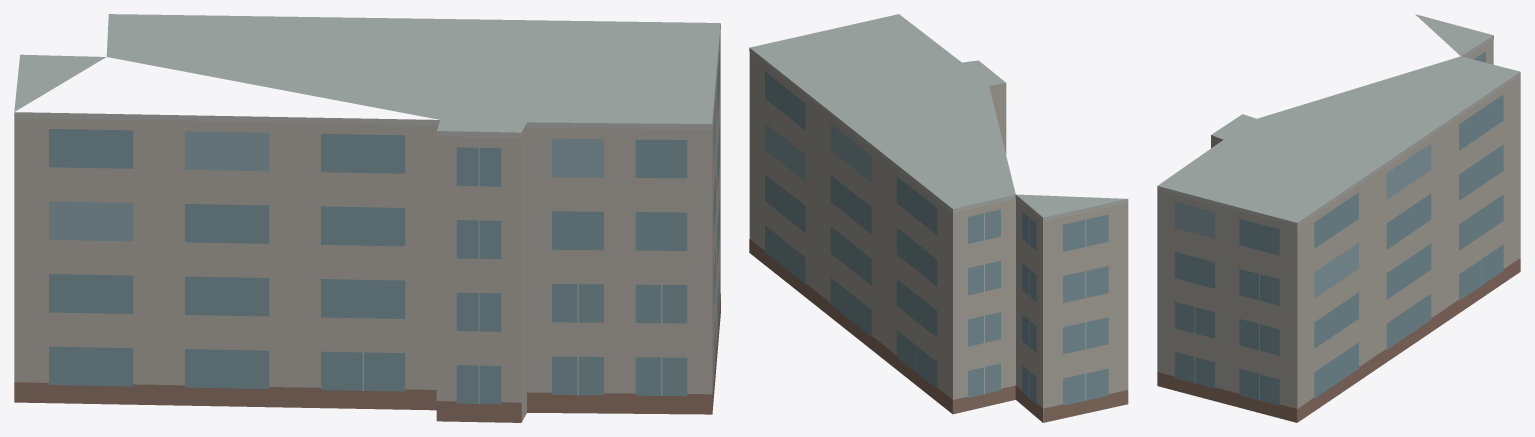
Rendered from survey-upis-32755908.glb.
3 views of the same model, side by side, from view 1: azimuth 30°, elevation 25°; view 2: azimuth 150°, elevation 25°; view 3: azimuth 270°, elevation 25° (orthographic). The views are drawn at different scales.
Parts seen in each view (by area): view 1: survey-upis-32755908.tmp; view 2: survey-upis-32755908.tmp; view 3: survey-upis-32755908.tmp.
Part boxes in pixels (x1=…): survey-upis-32755908.tmp: x1=14, y1=14, x2=720, y2=422; survey-upis-32755908.tmp: x1=749, y1=14, x2=1128, y2=422; survey-upis-32755908.tmp: x1=1157, y1=14, x2=1520, y2=422.
Size of the model in its own units: 28 by 12.5 by 20.59.
